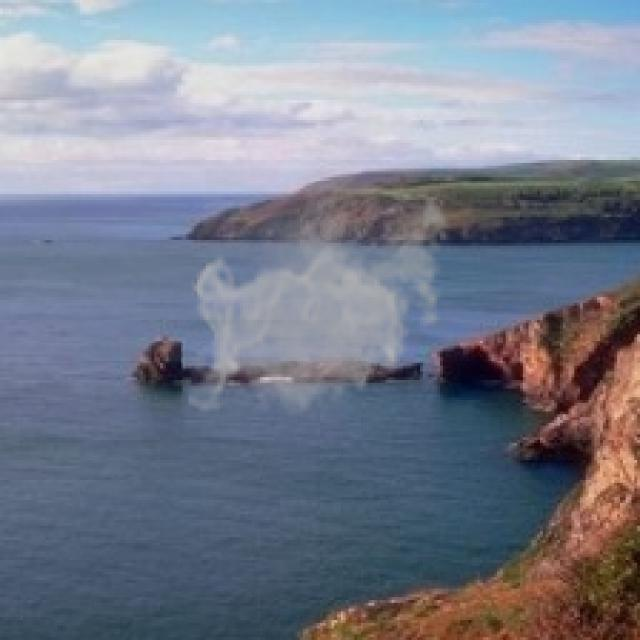smoke: (189, 168, 457, 426)
